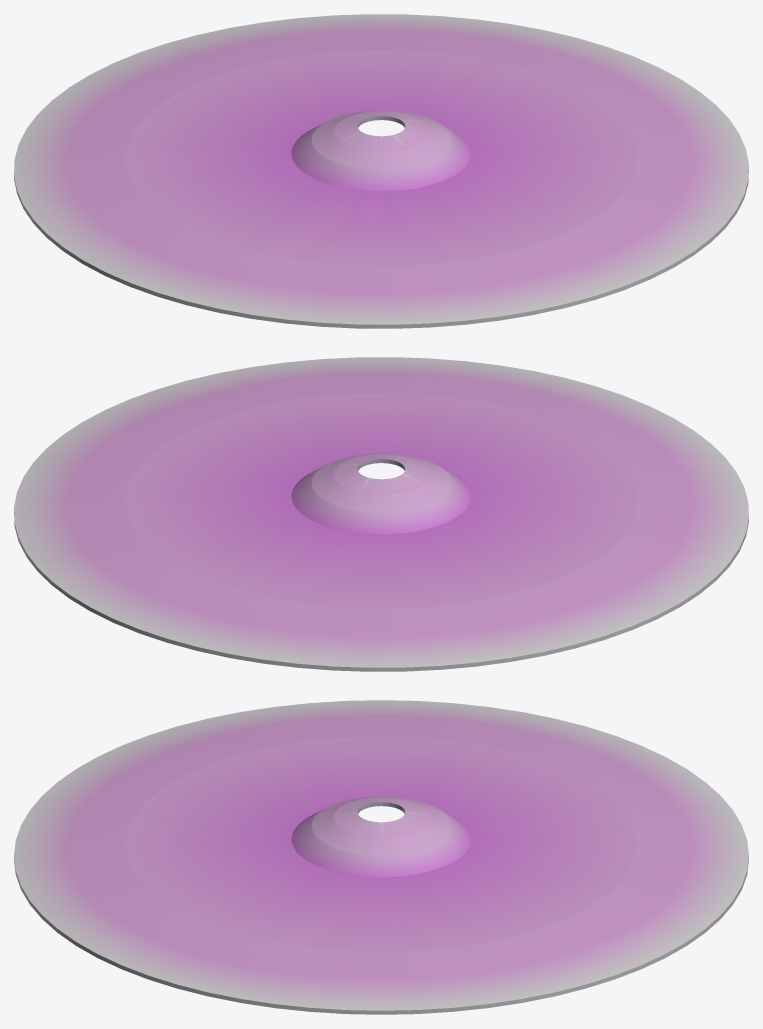
3 renders of one model, top to bottom at view 1: azimuth 30°, elevation 25°; view 2: azimuth 150°, elevation 25°; view 3: azimuth 270°, elevation 25°, orthographic.
Visible parts, largest first — view 1: dish; view 2: dish; view 3: dish.
Boxes of the visible parts, x1,y1,x2,y2 form: dish: (14,14,748,328); dish: (14,357,748,671); dish: (14,700,748,1014).
Size of the model in its own units: 0.4 by 0.0284 by 0.4.
